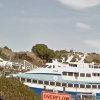Boat: (14, 52, 100, 96)
